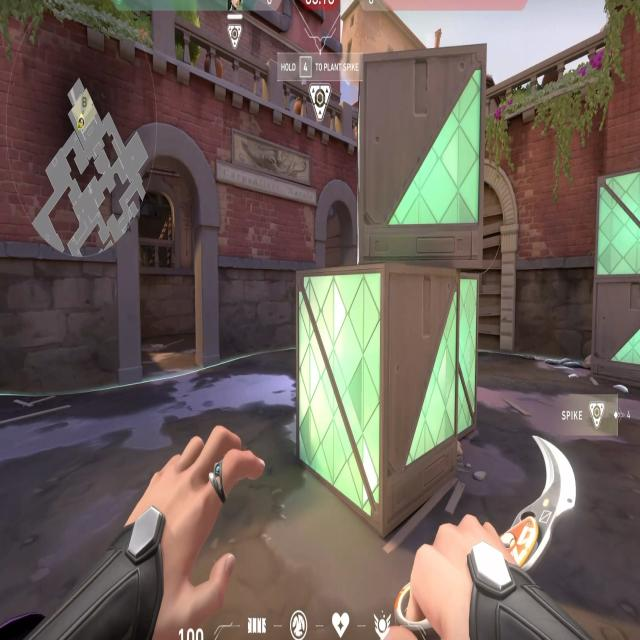B_Boathouse: (106, 120, 225, 382)
B_Site_Box: (295, 44, 492, 541)
